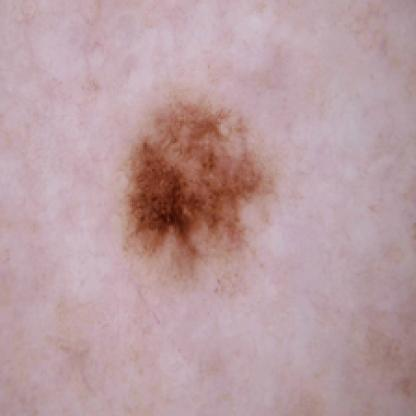Skin_Cancer-Malignant: (116, 93, 283, 280)
